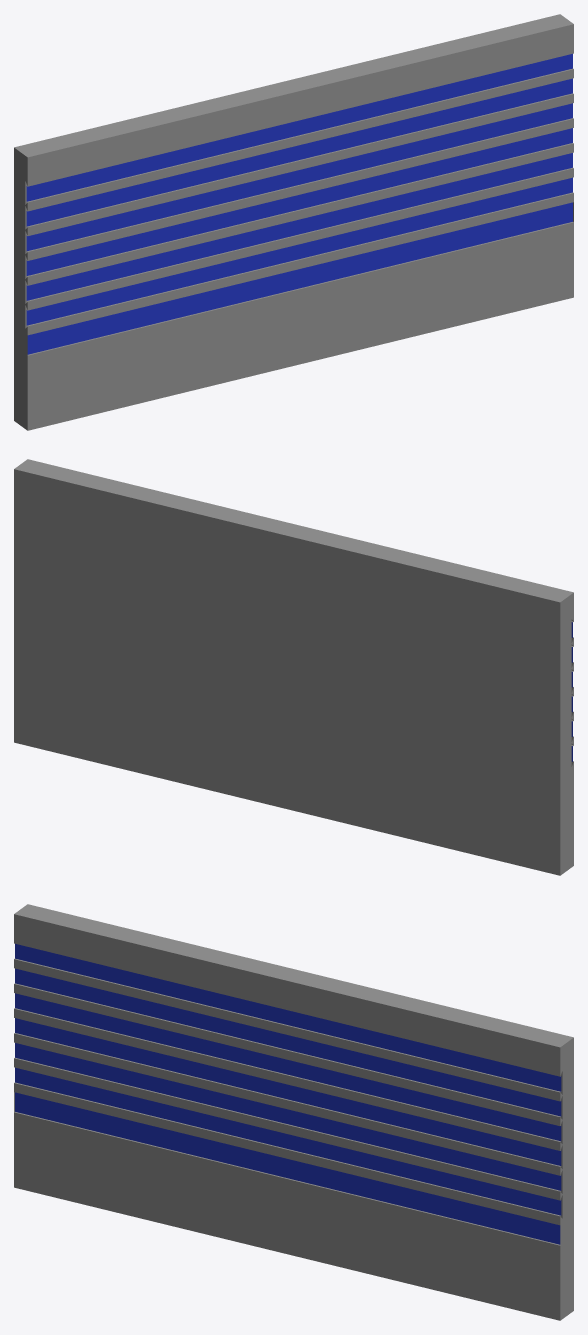
Rendered from wall_1.FBX.
3 views of the same model, one above another, from view 1: azimuth 30°, elevation 25°; view 2: azimuth 150°, elevation 25°; view 3: azimuth 330°, elevation 25° (orthographic).
Visible parts, largest first — view 1: wall_1; view 2: wall_1; view 3: wall_1.
Part boxes in pixels (x1,y1,x2,y2): wall_1: (14,14,573,430); wall_1: (14,459,573,875); wall_1: (14,904,573,1320).
Size of the model in its own units: 1150 by 550 by 50.
